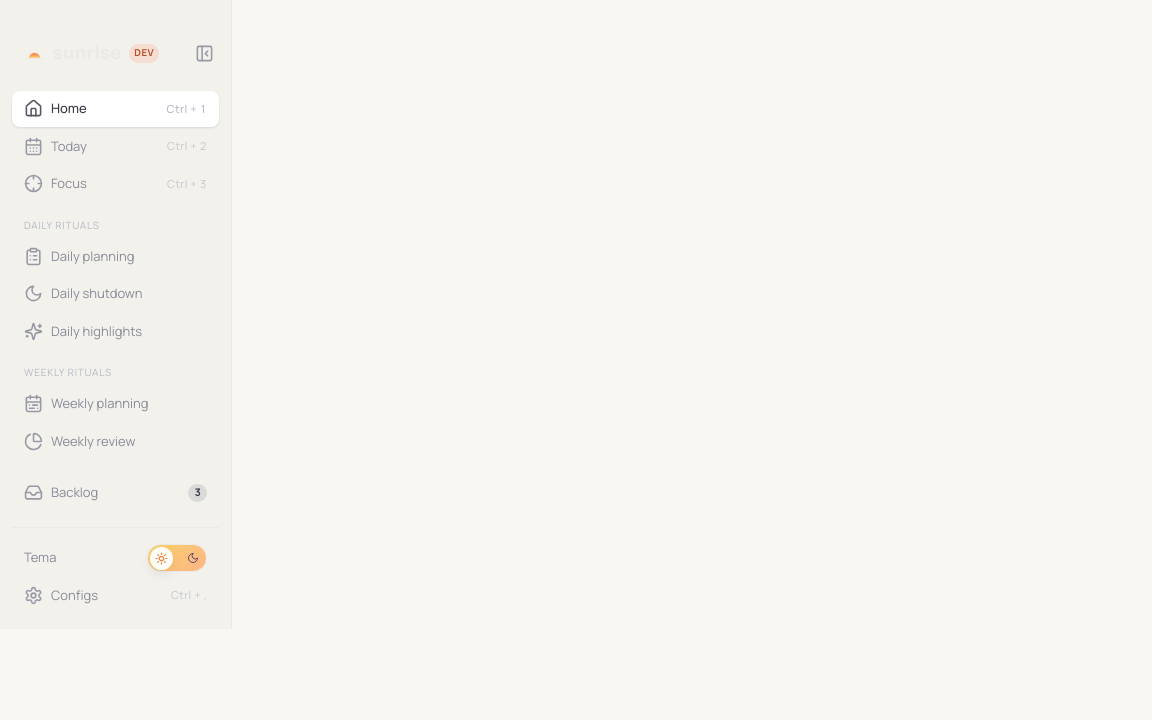
Test: Sidebar · colapsar › arranca expandido y colapsa al apretar el botón
Click the button named "Colapsar" at (204, 54), box [189,38,219,68]
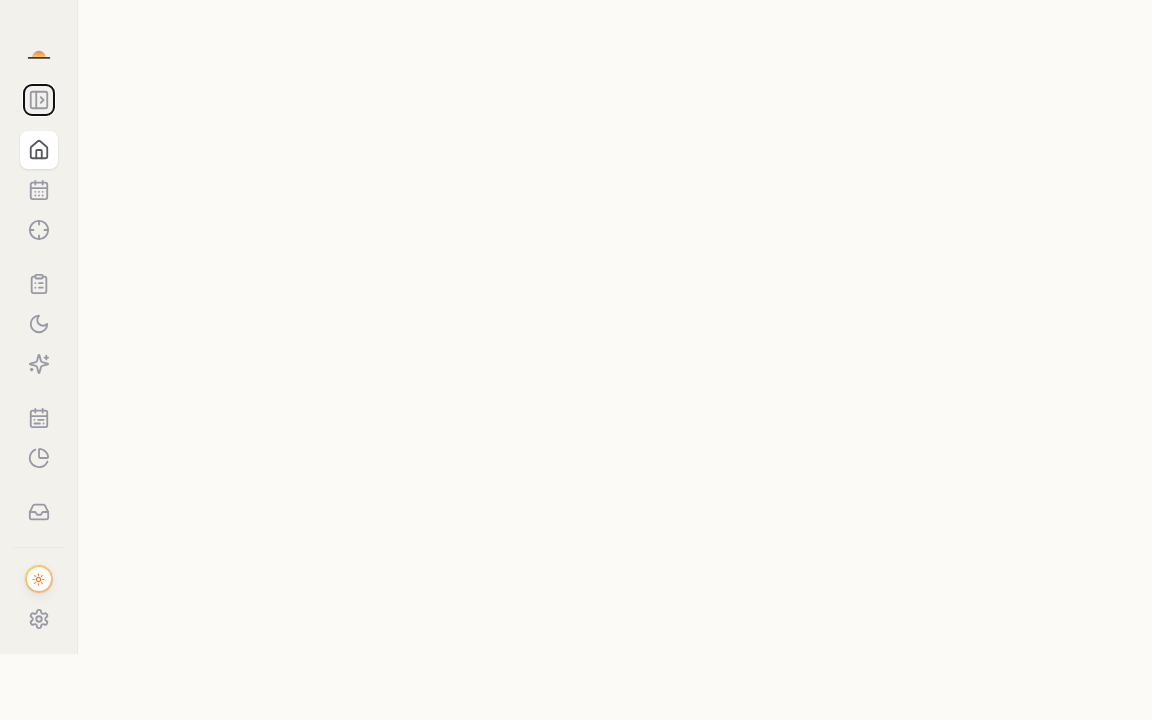
Check: the button named "Expandir" is collapsed, box [24,85,54,115]
